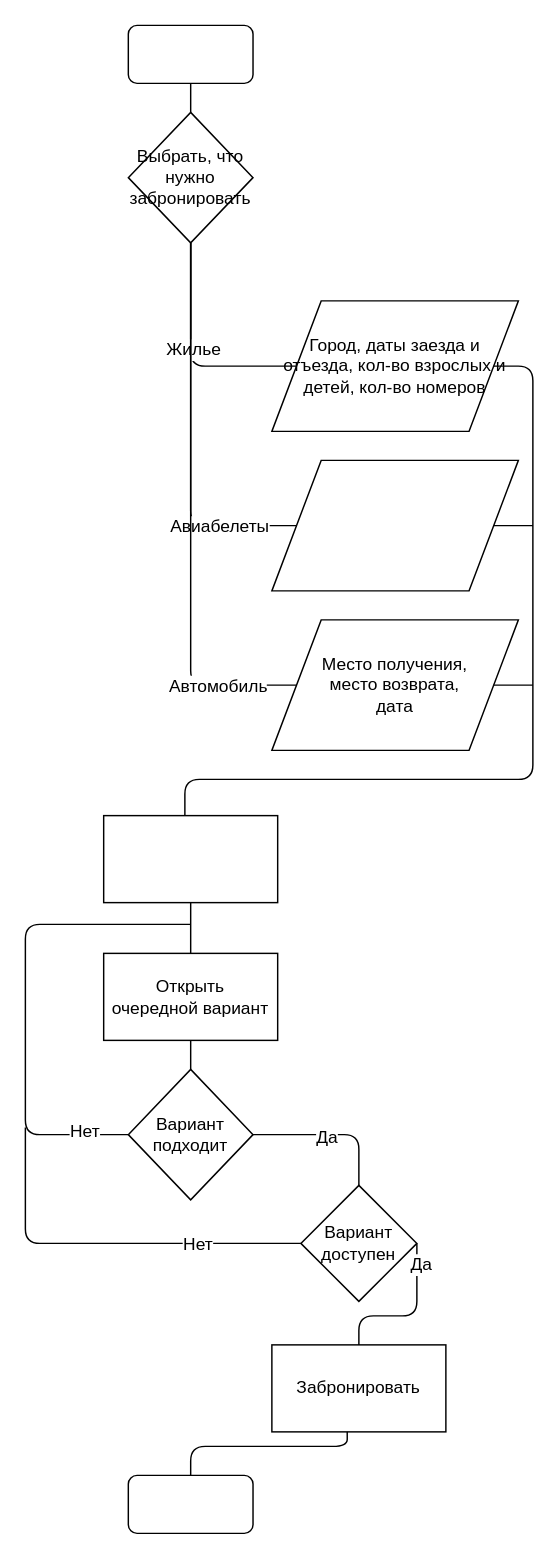
Some shapes in this 560 by 1559 pixel diagram are drawn without their labels. Here are the shapes that lost their labels. From the top down, the centre of each, then its label:
the point at 190,53: Начало
the point at 394,525: Пункт отправления, пункт назначения, дата, кол-во и вид билетов
the point at 190,858: Проверить цены
the point at 190,1503: Конец
